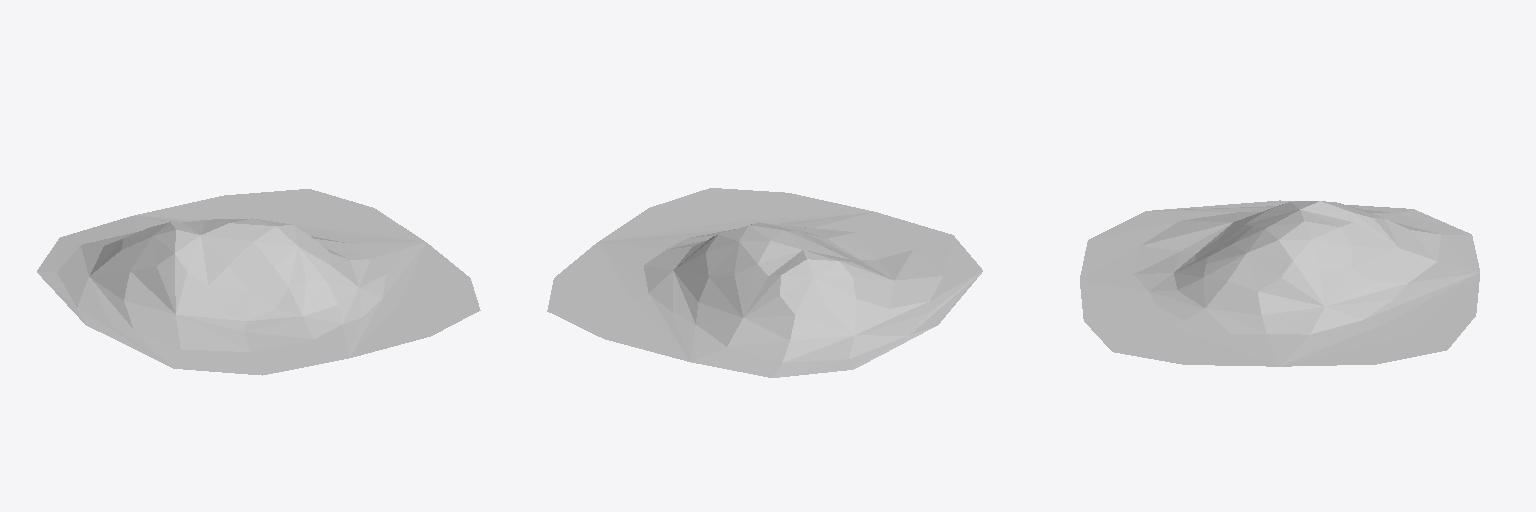
File: Ground09.obj
3 renders of one model, left to right at view 1: azimuth 30°, elevation 25°; view 2: azimuth 150°, elevation 25°; view 3: azimuth 270°, elevation 25°, orthographic.
Visible parts, largest first — view 1: Plane; view 2: Plane; view 3: Plane.
Boxes of the visible parts, box(x1,y1,x2,y2) form: Plane: box(37, 189, 480, 375); Plane: box(547, 188, 982, 377); Plane: box(1080, 200, 1479, 366).
Size of the model in its own units: 14.41 by 2.23 by 14.69.